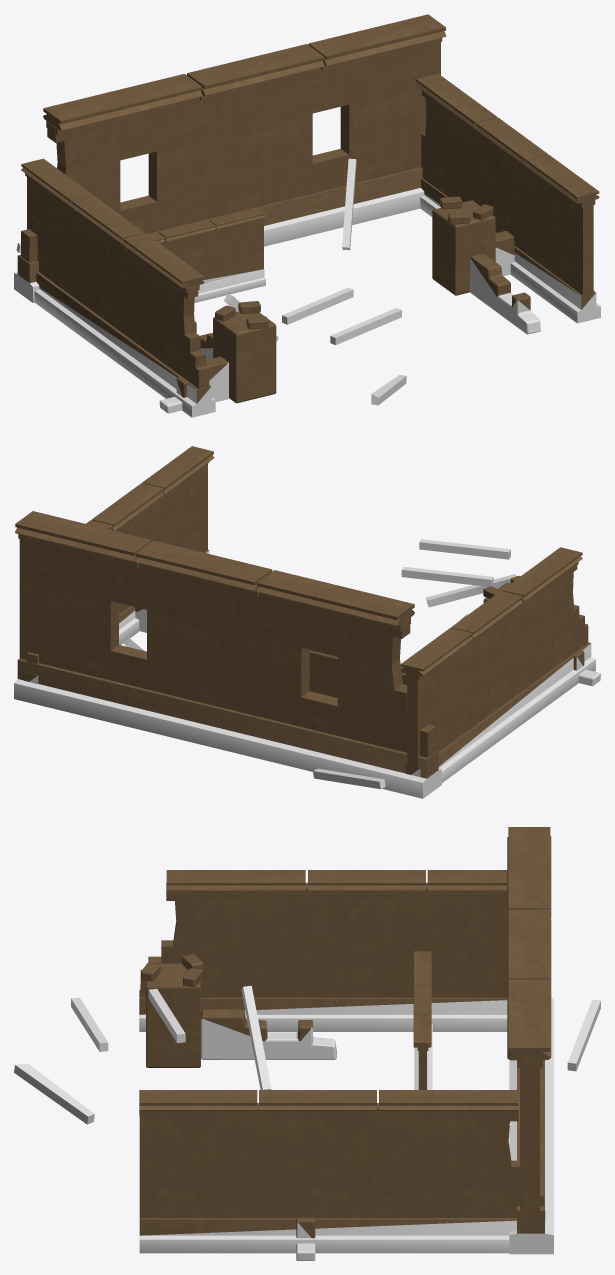
File: MiddleEasternCourtyard.fbx
3 views of the same model, one above another, from view 1: azimuth 30°, elevation 25°; view 2: azimuth 150°, elevation 25°; view 3: azimuth 270°, elevation 25° (orthographic). The views are drawn at different scales.
Parts seen in each view (by area): view 1: MiddleEasternCourtyard; view 2: MiddleEasternCourtyard; view 3: MiddleEasternCourtyard.
Boxes of the visible parts, x1,y1,x2,y2 form: MiddleEasternCourtyard: (14, 14, 600, 417); MiddleEasternCourtyard: (14, 446, 600, 798); MiddleEasternCourtyard: (14, 827, 600, 1260).
Size of the model in its own units: 7.77 by 2.96 by 7.64.
